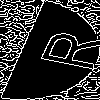R: (24, 25, 100, 73)
